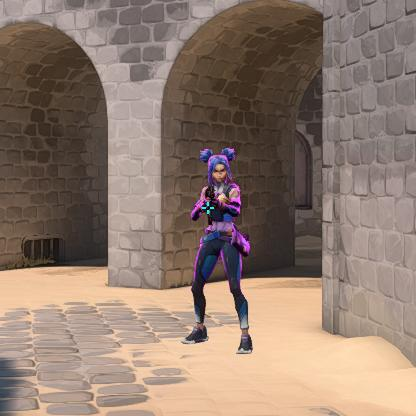enemyBody: (209, 187, 233, 231)
enemyHead: (210, 158, 226, 180)
